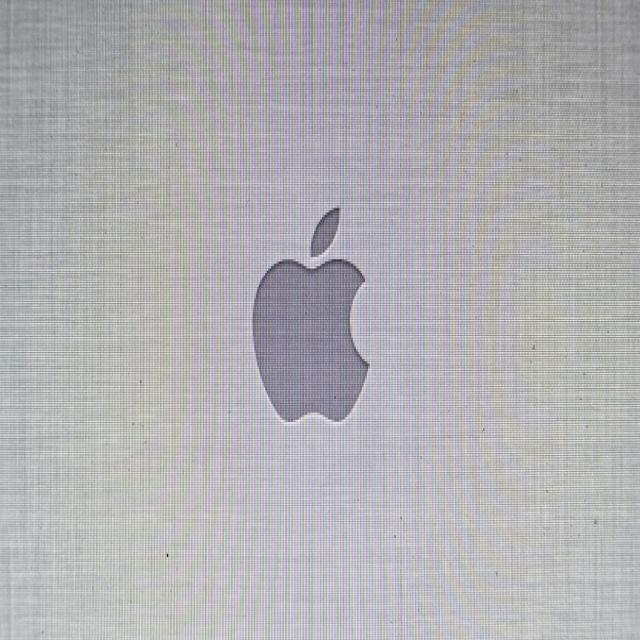Healty Apple: (256, 210, 378, 419)
